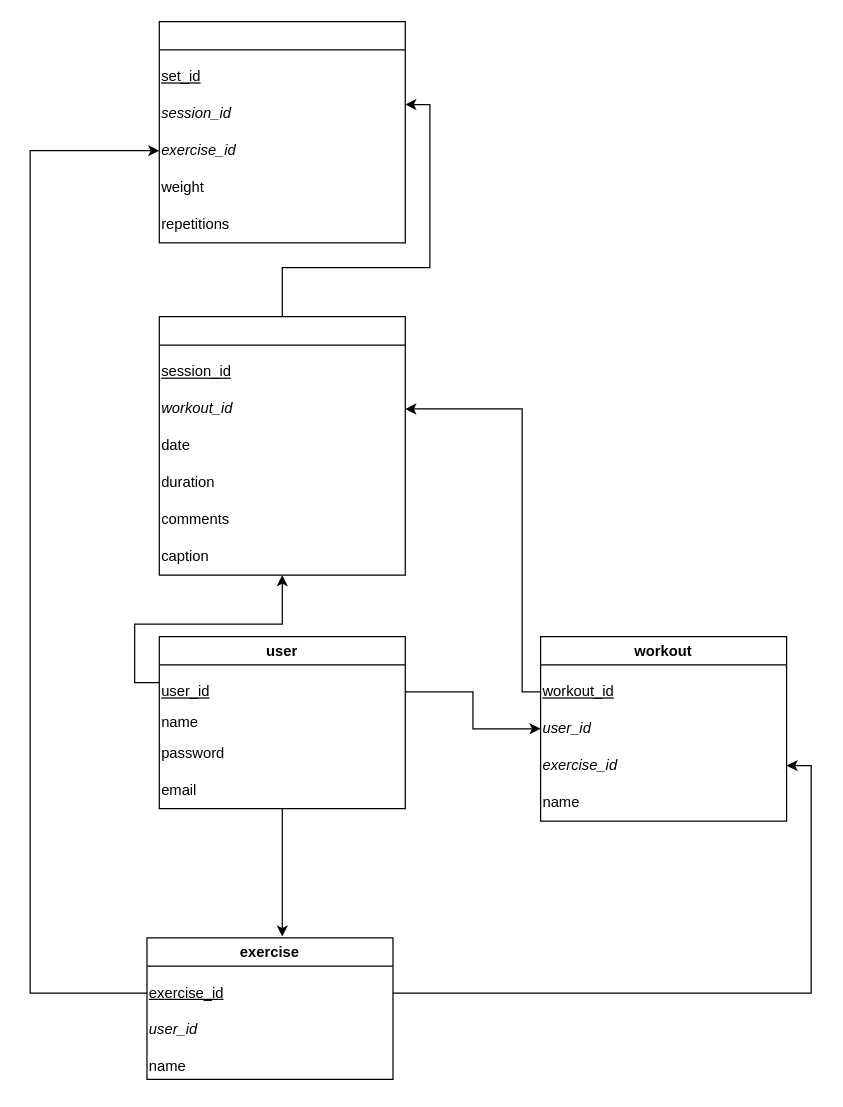
Image size: 843x1107. Some labels were removed from this diagram. The box of each missing label's shape, as (x1, y1, x2, y2) in pixels:
workout_session: (158, 315, 405, 575)
workout_set: (158, 20, 405, 243)
